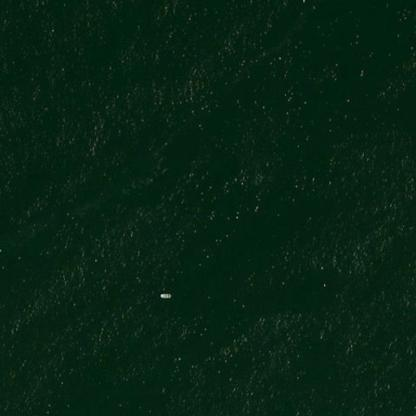ship: (154, 285, 176, 304)
